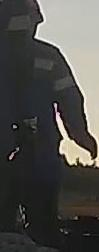gloves: (70, 126, 99, 160)
vest: (0, 0, 98, 251), (35, 37, 76, 136)
